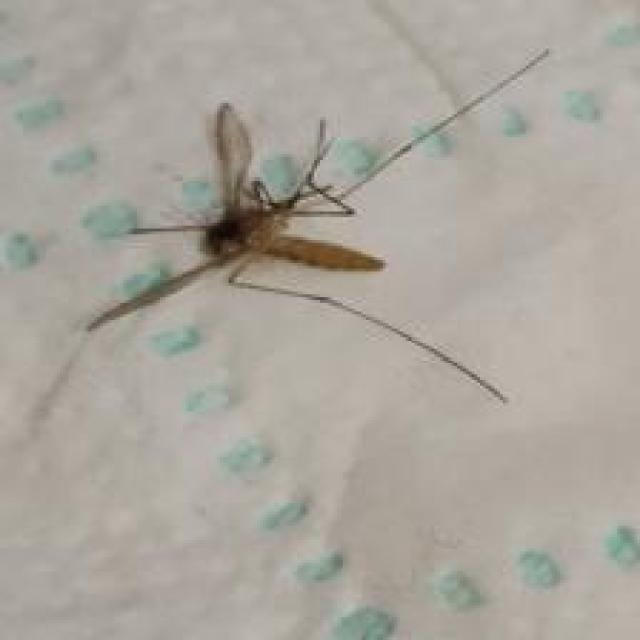Culex: (76, 43, 550, 411)
